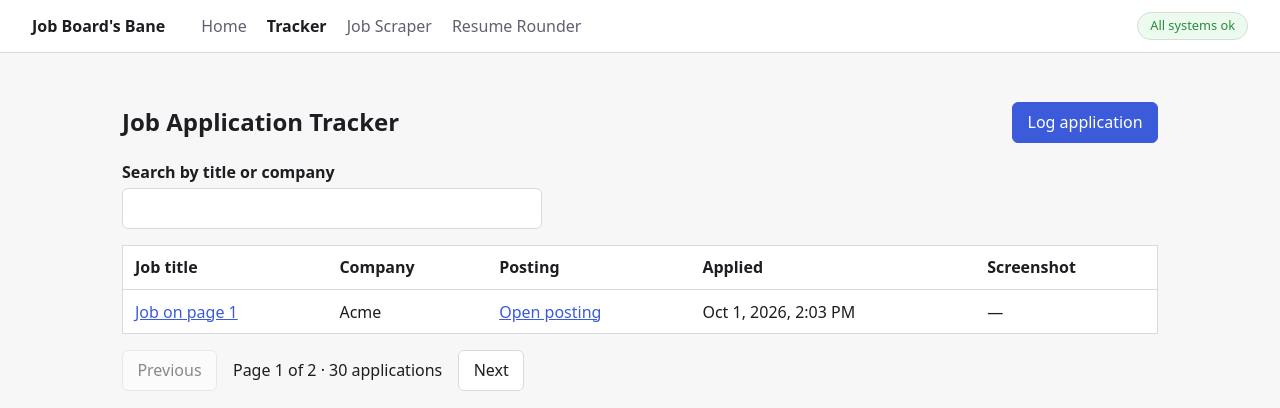
ApplicationListPage › pages through results
Expected: the link "Job on page 1" is shown, [135,300,238,322]
Expected: the text "Page 1 of 2 · 30 applications" is shown, [233,358,442,382]
What coordinates should you click on to do the following:
click the button "Next"
I would click on:
 (491, 370)
Its box is [458,350,524,390].
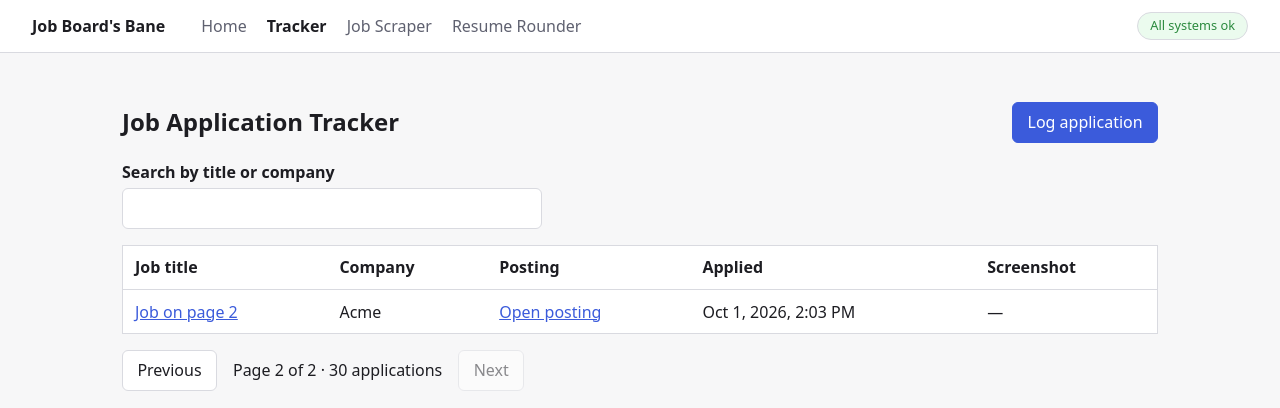
Expected: the link "Job on page 2" is shown, [135,300,238,322]
Expected: the button "Next" is disabled, [458,350,524,390]
